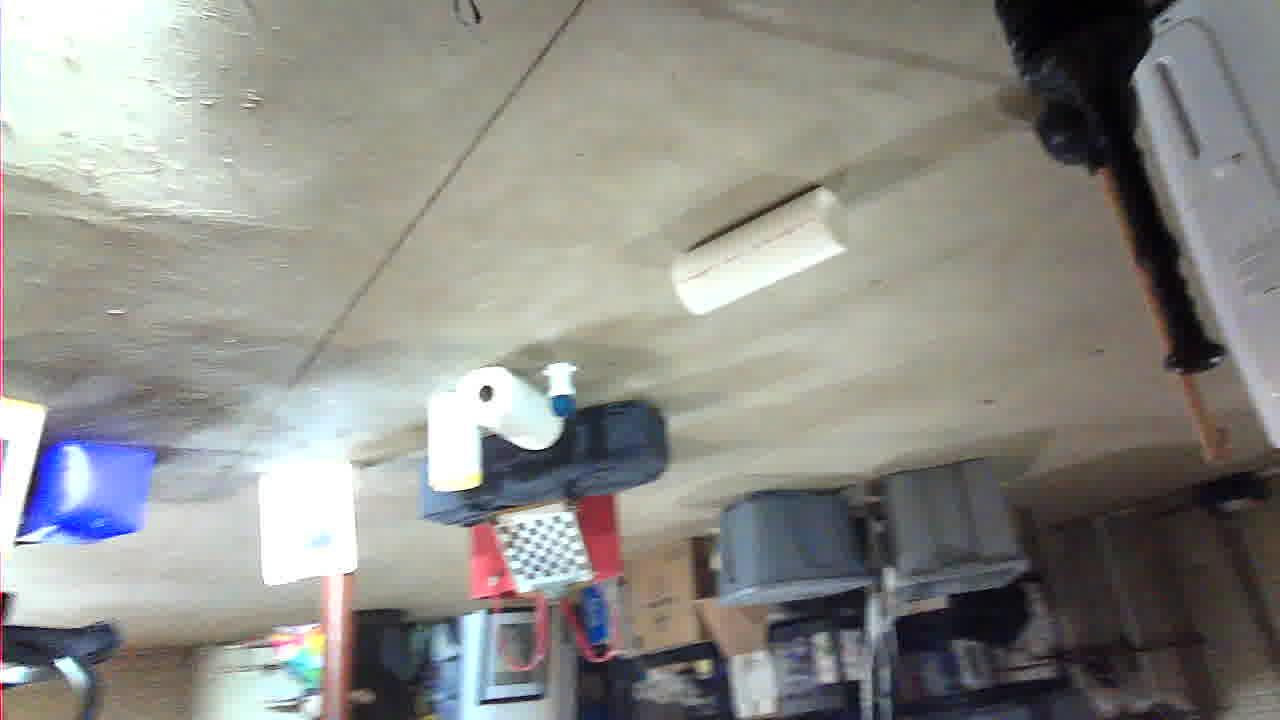coral: (437, 407, 608, 533)
